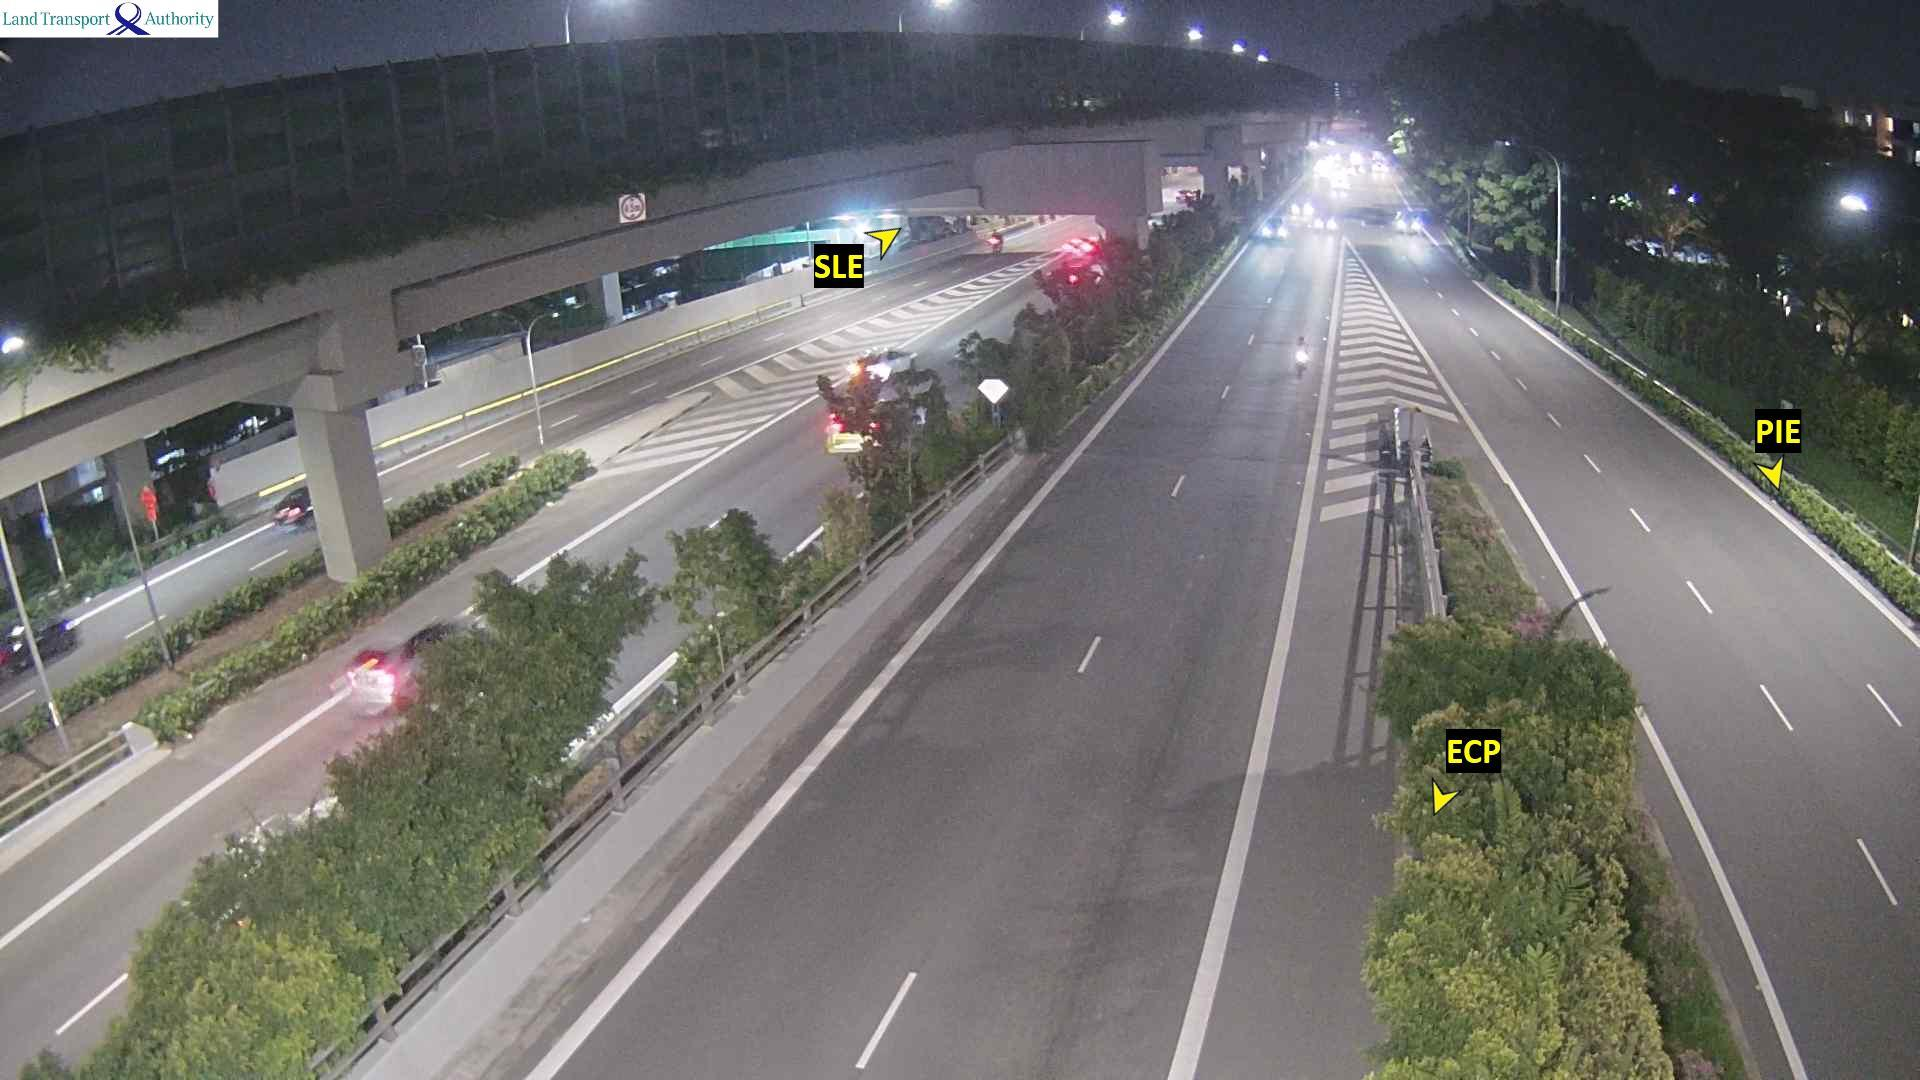incoming: (1394, 212, 1426, 240), (1260, 222, 1290, 242), (1293, 349, 1310, 381)
